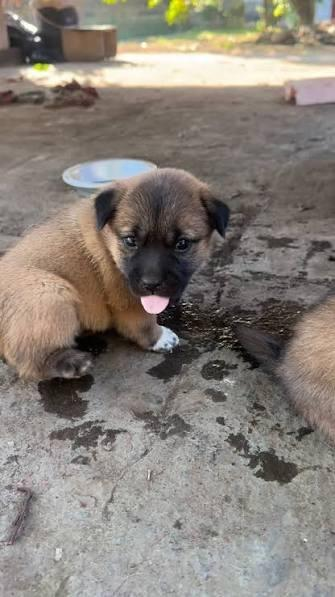puppy-dog: (0, 170, 231, 385), (235, 293, 335, 450)
